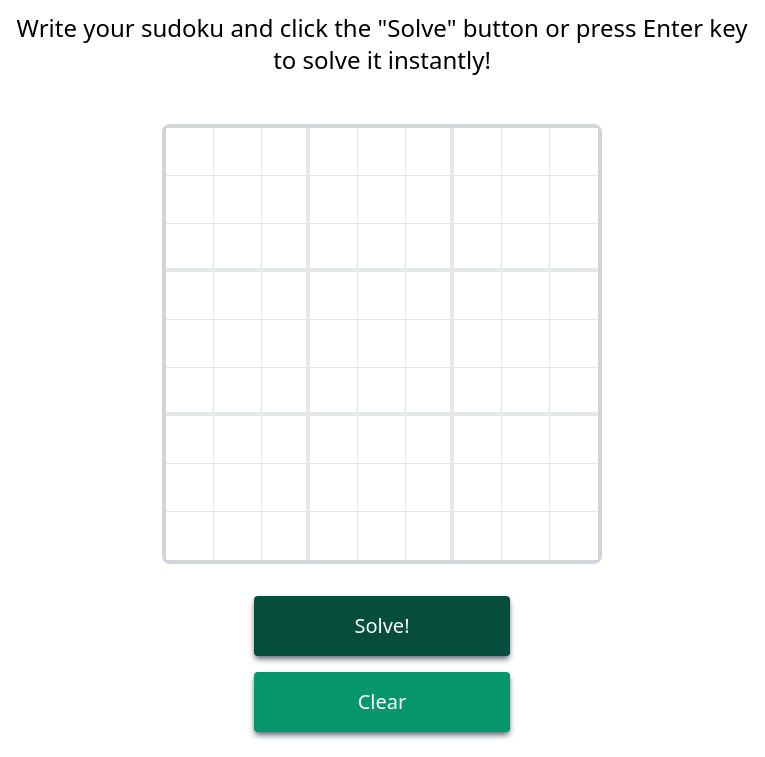
Test: Main Page › should clear the sudoku when the clear button is clicked
Type "5" into the field named "Cell 1 1" at coordinates (190, 152), box x1=166 y1=128 x2=214 y2=176
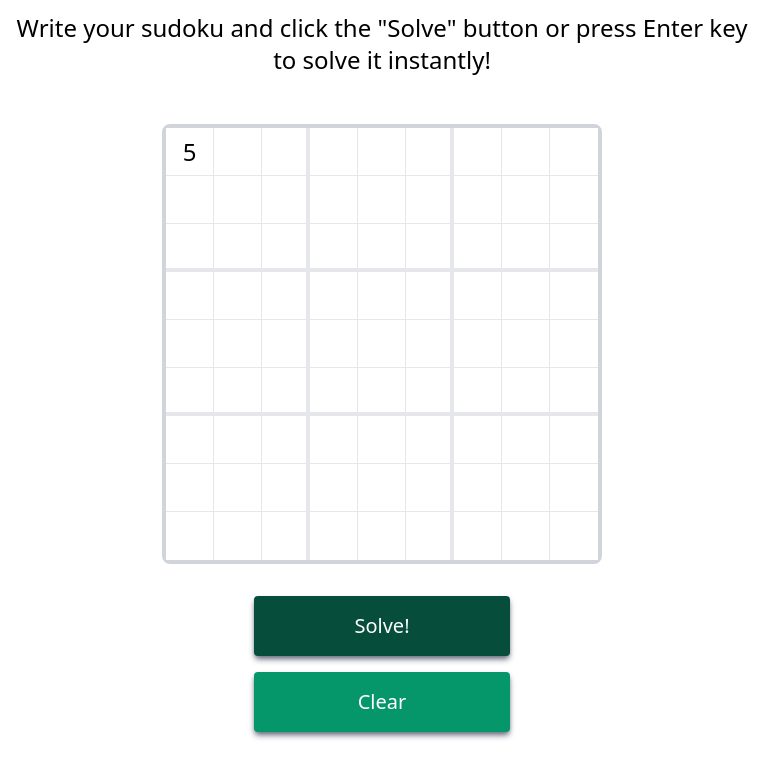
Type "4" into the field named "Cell 4 8" at coordinates (526, 296), box x1=502 y1=272 x2=550 y2=320
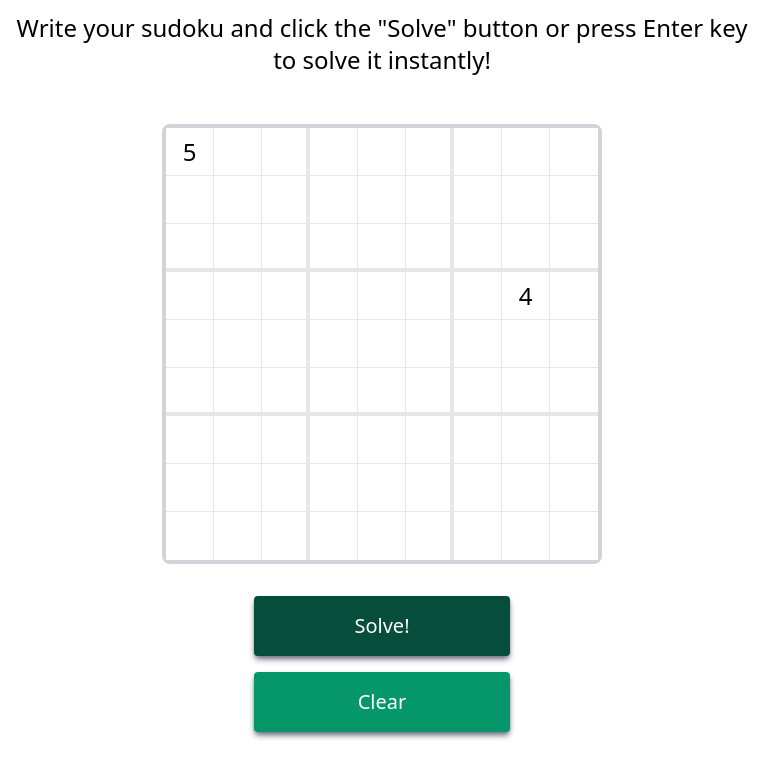
Click the button with test id "clearButton" at coordinates (382, 702), box x1=254 y1=672 x2=510 y2=732
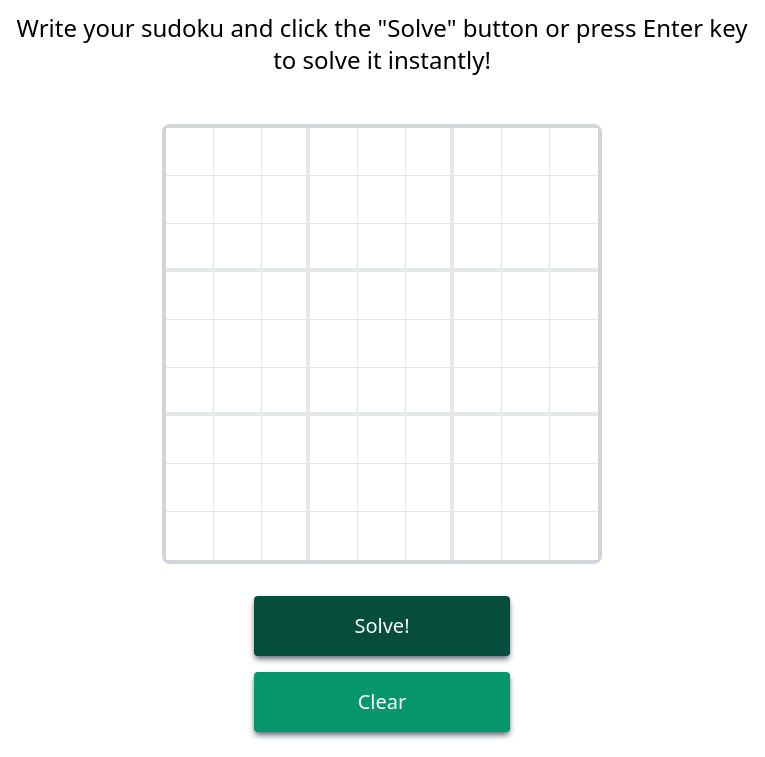
Expected: the field named "Cell 1 1" is empty, x1=166 y1=128 x2=214 y2=176
Expected: the field named "Cell 4 8" is empty, x1=502 y1=272 x2=550 y2=320
